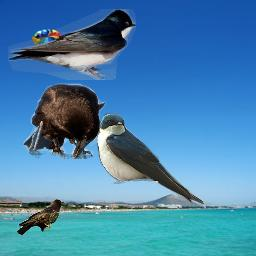Crow: (22, 83, 108, 159), (17, 198, 68, 237)
Swallow: (97, 113, 205, 205), (8, 9, 136, 80)
